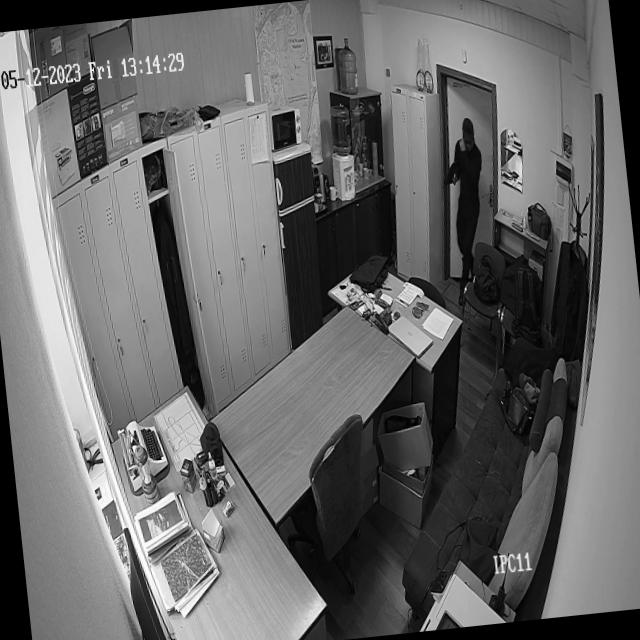gun: (438, 160, 460, 188)
person with a gun: (446, 115, 490, 272)
